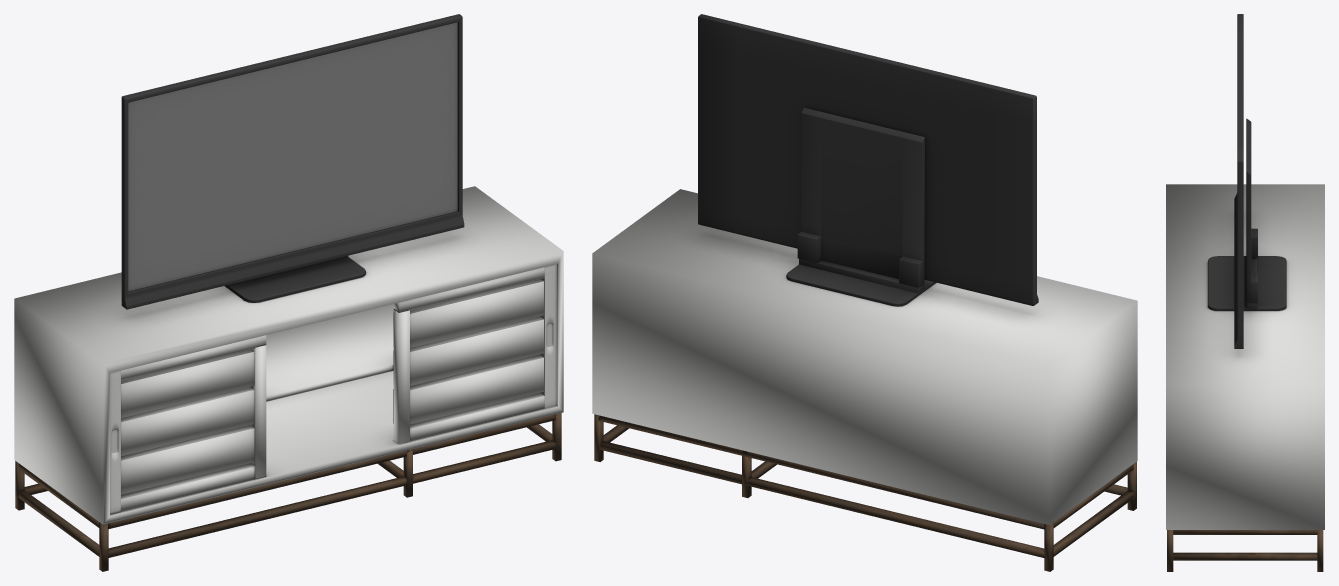
Rendered from cb-clapboard_baked.glb.
The picture shows the model from 3 angles, left to right: view 1: azimuth 30°, elevation 25°; view 2: azimuth 150°, elevation 25°; view 3: azimuth 270°, elevation 25°; orthographic projection. The views are drawn at different scales.
Visible parts, largest first — view 1: Mesh_0.018; view 2: Mesh_0.018; view 3: Mesh_0.018.
Part boxes in pixels (x1=…): Mesh_0.018: x1=14, y1=14, x2=563, y2=571; Mesh_0.018: x1=592, y1=14, x2=1137, y2=571; Mesh_0.018: x1=1166, y1=14, x2=1324, y2=571.
Size of the model in its own units: 152 by 136 by 50.8.
Materials: 1 (1 with a texture image).
